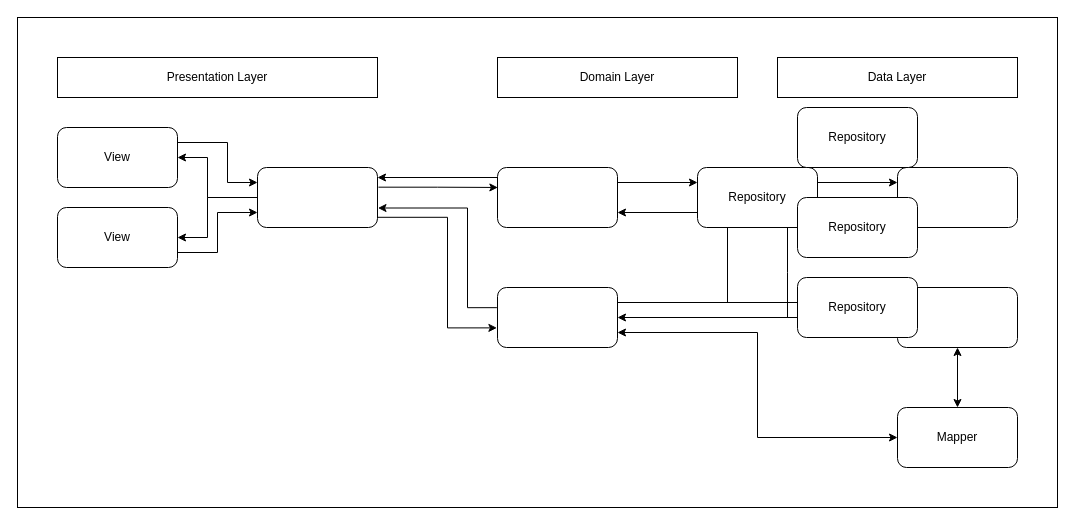
The diagram is 1075 pixels wide and 525 high, and some of its shapes have lost their labels. The centre of each missing label's shape, as x and y in pixels:
"Data Source" goes at point (957, 197).
"Entity" goes at point (957, 317).
"Model" goes at point (557, 317).
"Use Case" goes at point (557, 197).
"View Model" goes at point (317, 197).
